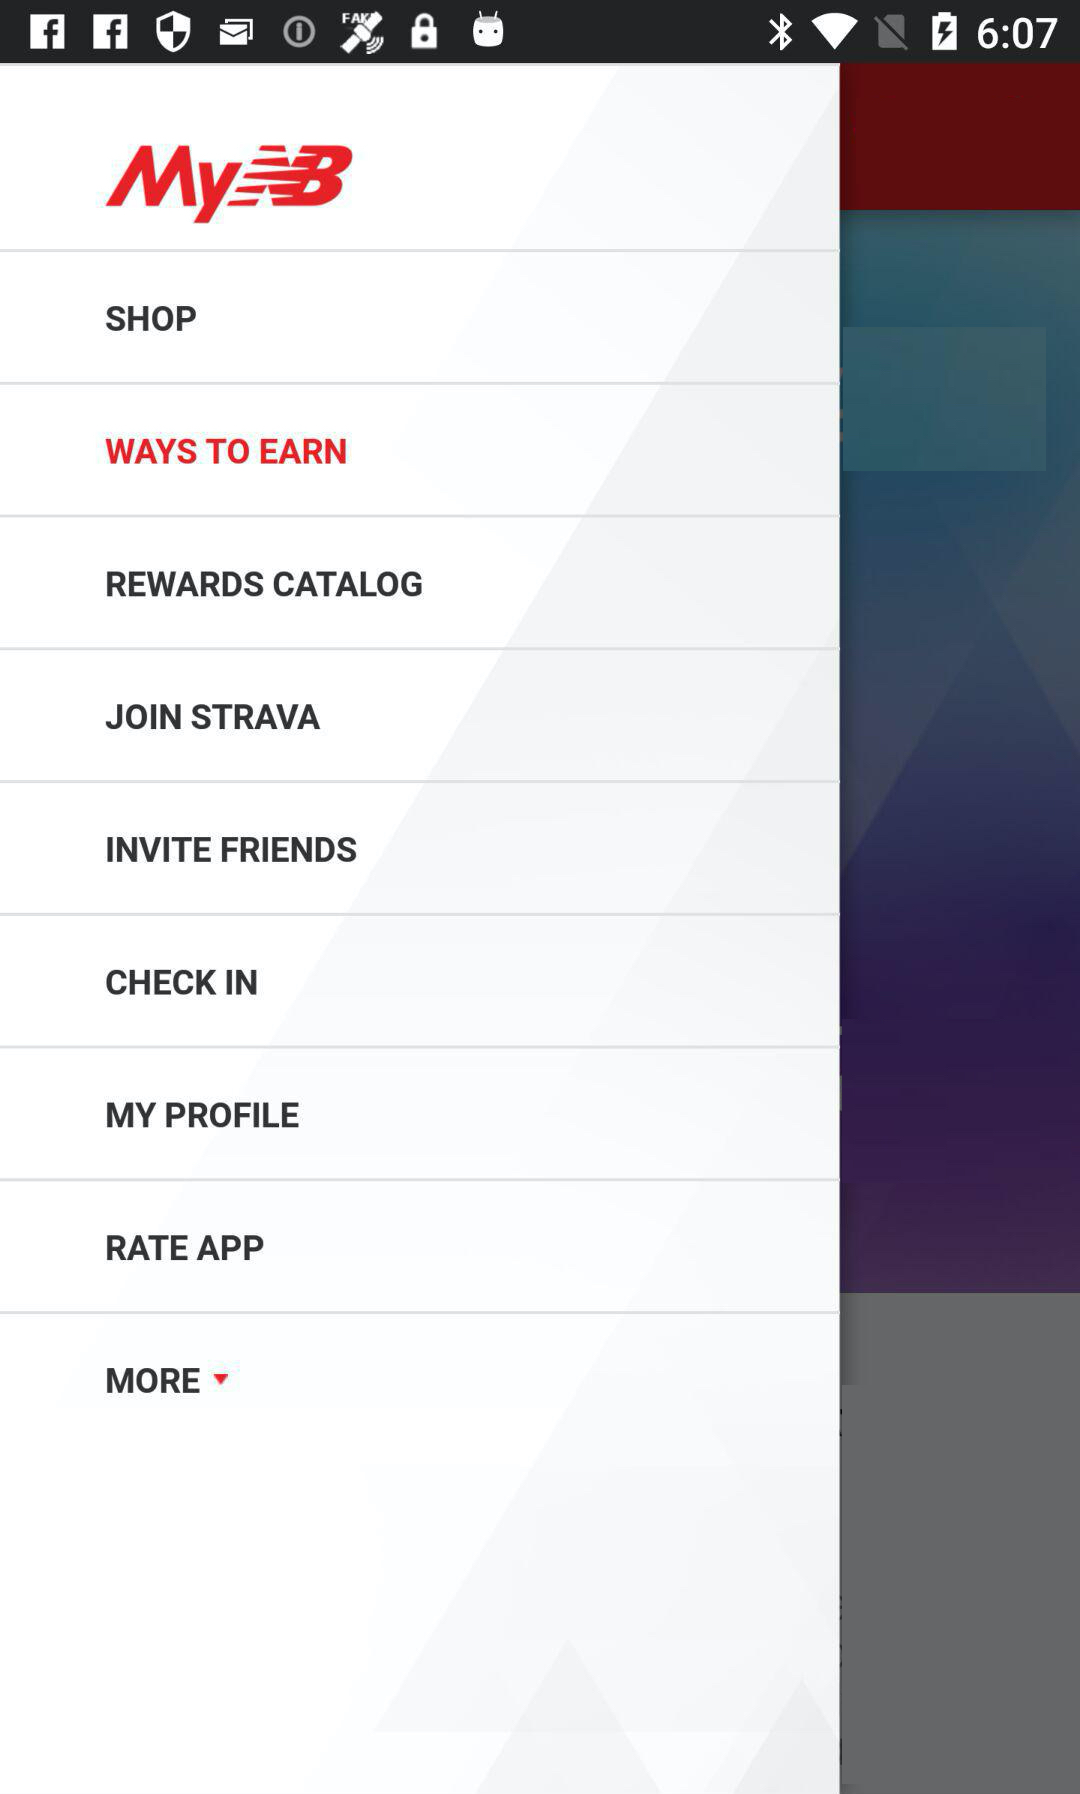Drawer: (1, 65, 839, 1794)
Image: (104, 144, 354, 226)
Text: (106, 570, 424, 598), (105, 437, 348, 466), (108, 835, 357, 864), (105, 704, 322, 730), (106, 1101, 301, 1130), (106, 1234, 266, 1262), (105, 969, 259, 997), (106, 1366, 202, 1395), (105, 305, 199, 334)
UpperTaskBar: (1, 1, 1080, 64)
